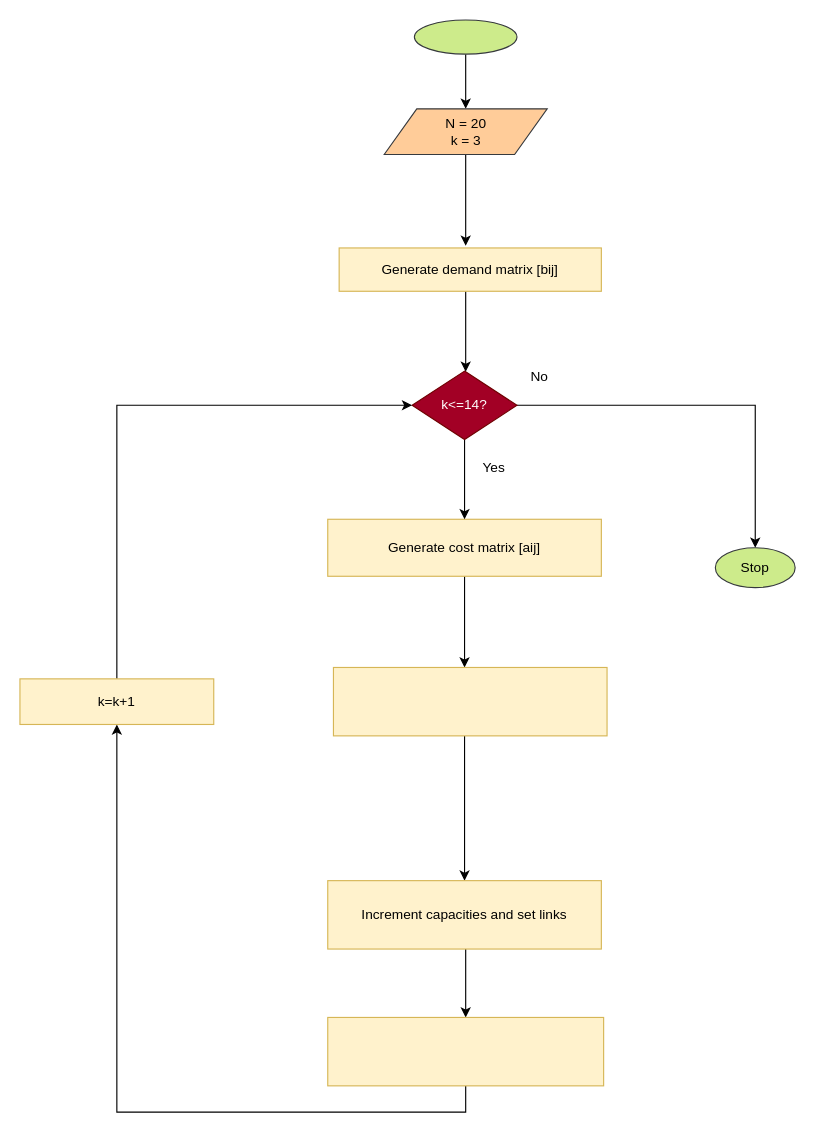
Some shapes in this 815 by 1141 pixel diagram are drawn without their labels. The shapes that lost their labels are listed below. From the top down, each one's centre as x and y in pixels, then its label:
At pixel 465 36: "Start".
At pixel 469 701: "Compute shortest paths between all pairs of nodes using Floyd Warshall algorithm".
At pixel 465 1051: "Compute network cost and network density".
